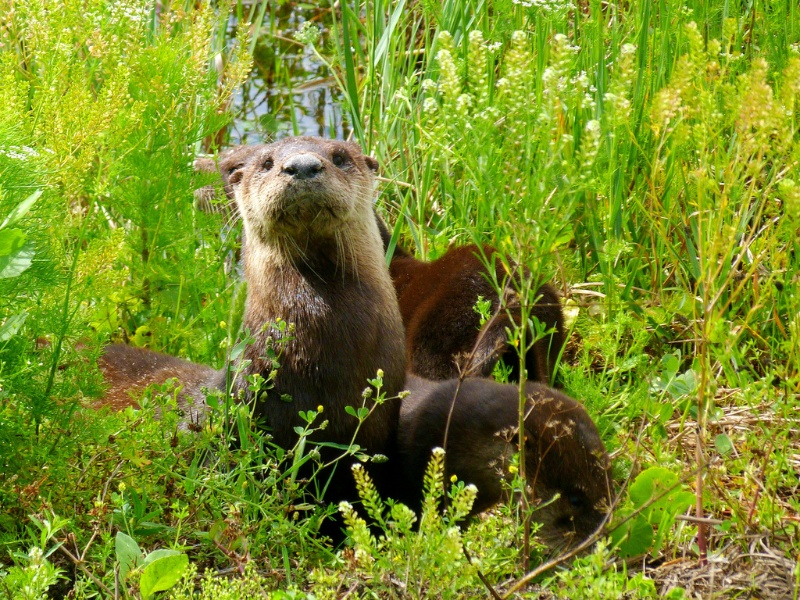minkish: (210, 138, 411, 524)
